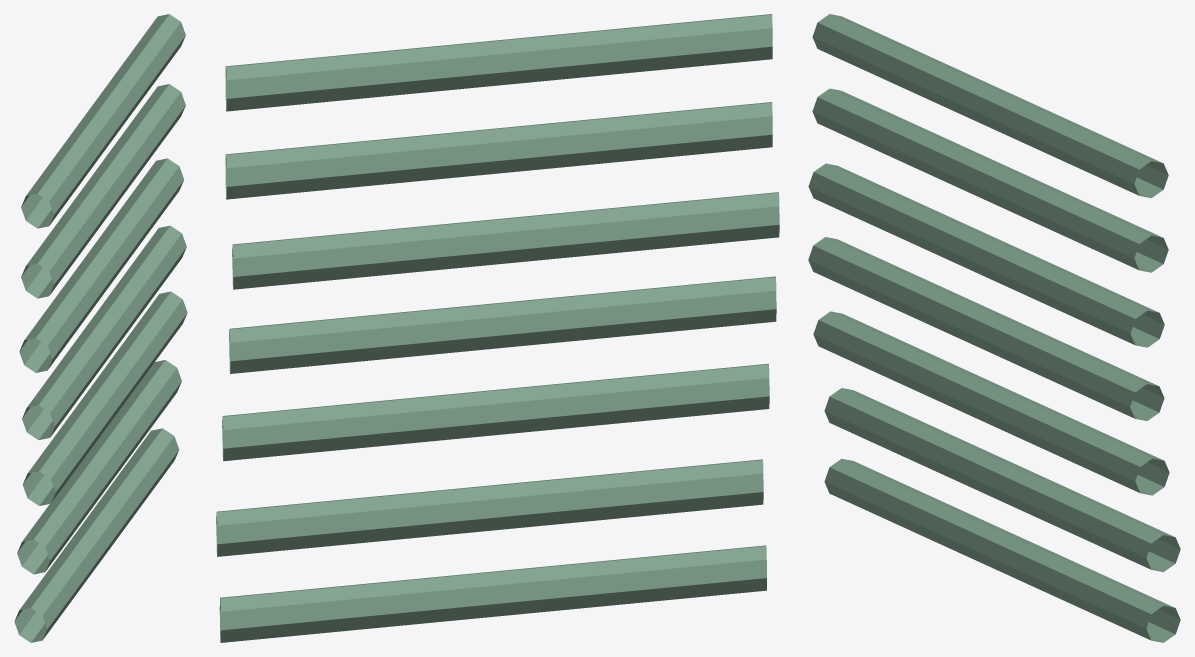
Rendered from lasers.fbx.
The picture shows the model from 3 angles, left to right: view 1: azimuth 30°, elevation 25°; view 2: azimuth 150°, elevation 25°; view 3: azimuth 270°, elevation 25°; orthographic projection. The views are drawn at different scales.
Visible parts, largest first — view 1: Cylinder.014, Cylinder.002, Cylinder.013, Cylinder.003, Cylinder.004, Cylinder.015, Cylinder.001; view 2: Cylinder.002, Cylinder.001, Cylinder.004, Cylinder.015, Cylinder.013, Cylinder.014, Cylinder.003; view 3: Cylinder.002, Cylinder.003, Cylinder.013, Cylinder.001, Cylinder.014, Cylinder.015, Cylinder.004.
Part boxes in pixels (bbox=[...]): Cylinder.014: bbox=[21, 84, 185, 298]; Cylinder.002: bbox=[22, 291, 187, 505]; Cylinder.013: bbox=[21, 14, 185, 228]; Cylinder.003: bbox=[14, 428, 179, 642]; Cylinder.004: bbox=[22, 225, 186, 440]; Cylinder.015: bbox=[19, 158, 184, 372]; Cylinder.001: bbox=[17, 360, 181, 574]; Cylinder.002: bbox=[222, 363, 769, 461]; Cylinder.001: bbox=[216, 459, 763, 556]; Cylinder.004: bbox=[229, 276, 776, 373]; Cylinder.015: bbox=[232, 192, 779, 289]; Cylinder.013: bbox=[225, 14, 772, 111]; Cylinder.014: bbox=[225, 102, 772, 199]; Cylinder.003: bbox=[219, 545, 766, 642]; Cylinder.002: bbox=[813, 311, 1169, 495]; Cylinder.003: bbox=[824, 458, 1180, 642]; Cylinder.013: bbox=[812, 14, 1168, 198]; Cylinder.001: bbox=[824, 388, 1180, 572]; Cylinder.014: bbox=[812, 88, 1168, 272]; Cylinder.015: bbox=[808, 163, 1164, 347]; Cylinder.004: bbox=[808, 237, 1164, 420].
Bounding box in the file's own units: 74.18 × 105 × 73.53.
Materials: 7 (7 with a texture image).
